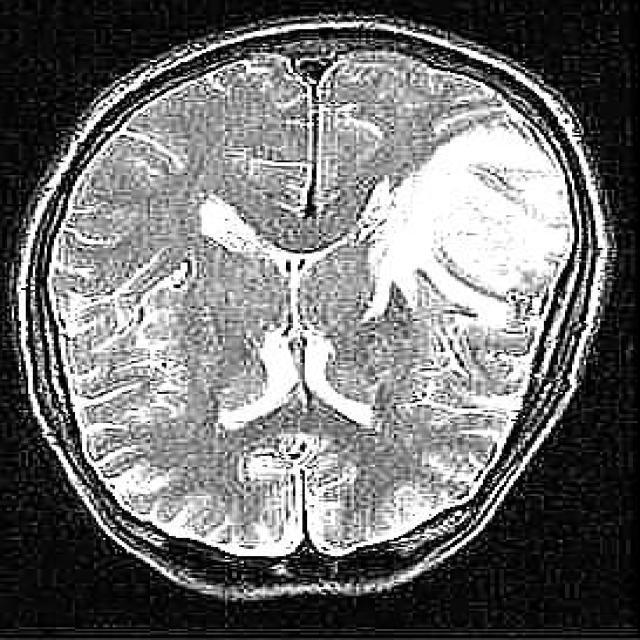Tumor: (353, 110, 592, 345)
